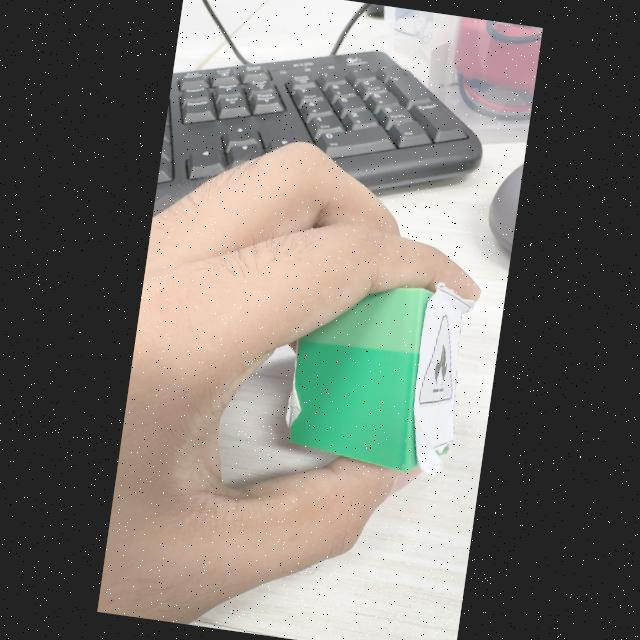Fire: (419, 315, 453, 404)
